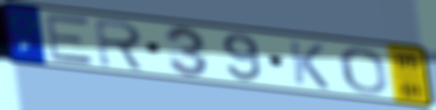3: (162, 25, 211, 79)
9: (220, 33, 264, 83)
E: (43, 13, 98, 66)
K: (287, 39, 333, 91)
O: (337, 46, 389, 96)
R: (92, 17, 149, 73)
